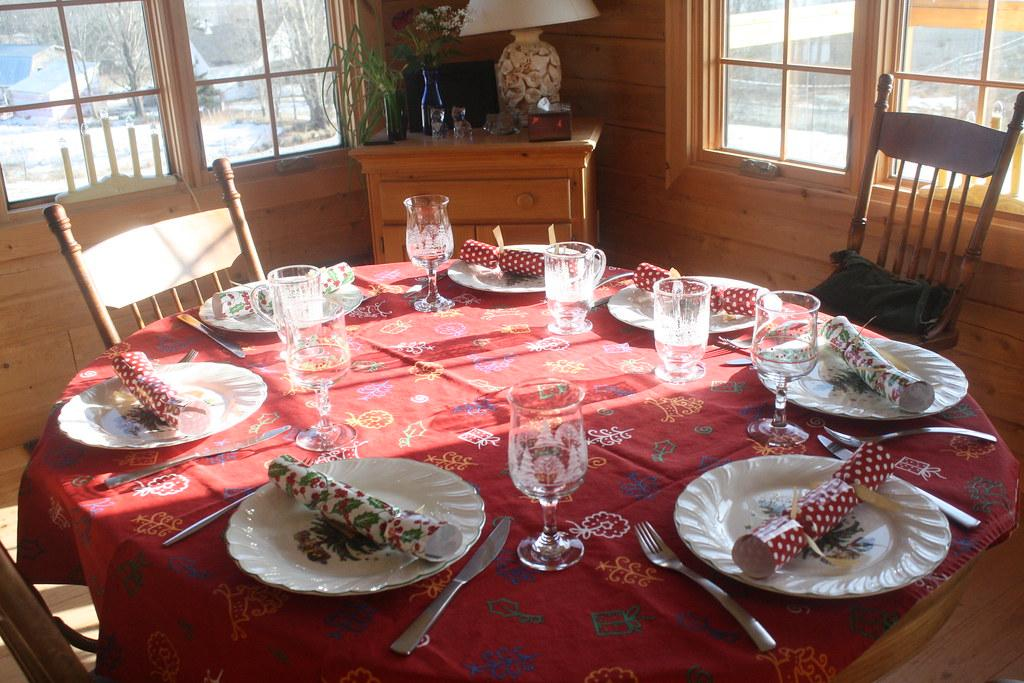table: (17, 253, 1022, 681)
